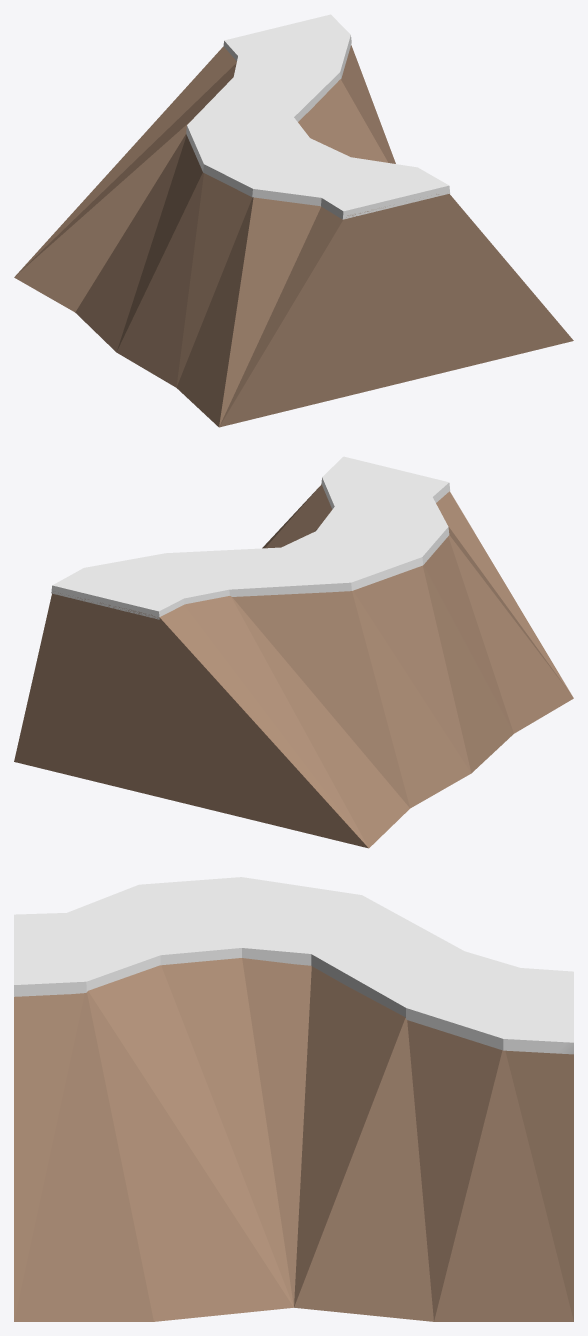
Rendered from South_to_East.fbx.
3 renders of one model, top to bottom at view 1: azimuth 30°, elevation 25°; view 2: azimuth 150°, elevation 25°; view 3: azimuth 270°, elevation 25°, orthographic. The views are drawn at different scales.
Visible parts, largest first — view 1: Path_07; view 2: Path_07; view 3: Path_07.
Boxes of the visible parts, <box> form: Path_07: <box>14,14,573,427</box>; Path_07: <box>14,456,573,848</box>; Path_07: <box>14,877,573,1321</box>.
Bounding box in the file's own units: 200 × 100 × 200.
Materials: 1 (1 with a texture image).
